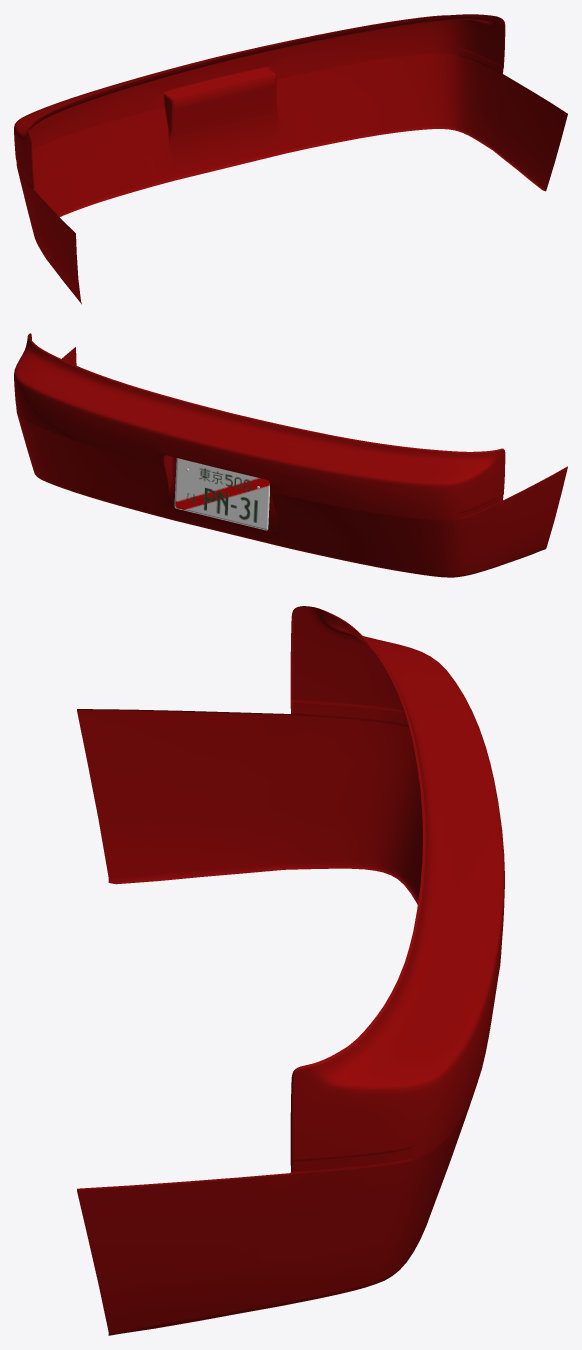
The model's file is rearbumper_rocketbunnyv1.glb.
3 views of the same model, one above another, from view 1: azimuth 30°, elevation 25°; view 2: azimuth 150°, elevation 25°; view 3: azimuth 270°, elevation 25° (orthographic). The views are drawn at different scales.
Parts seen in each view (by area): view 1: Bumper; view 2: Bumper, Plate; view 3: Bumper.
Part boxes in pixels (left/top/right/bottom): Bumper: left=14, top=14, right=567, bottom=304; Bumper: left=14, top=333, right=567, bottom=577; Plate: left=174, top=458, right=269, bottom=530; Bumper: left=77, top=606, right=504, bottom=1335.
Size of the model in its own units: 1.67 by 0.4434 by 0.6276.
Materials: 4 (1 with a texture image).
